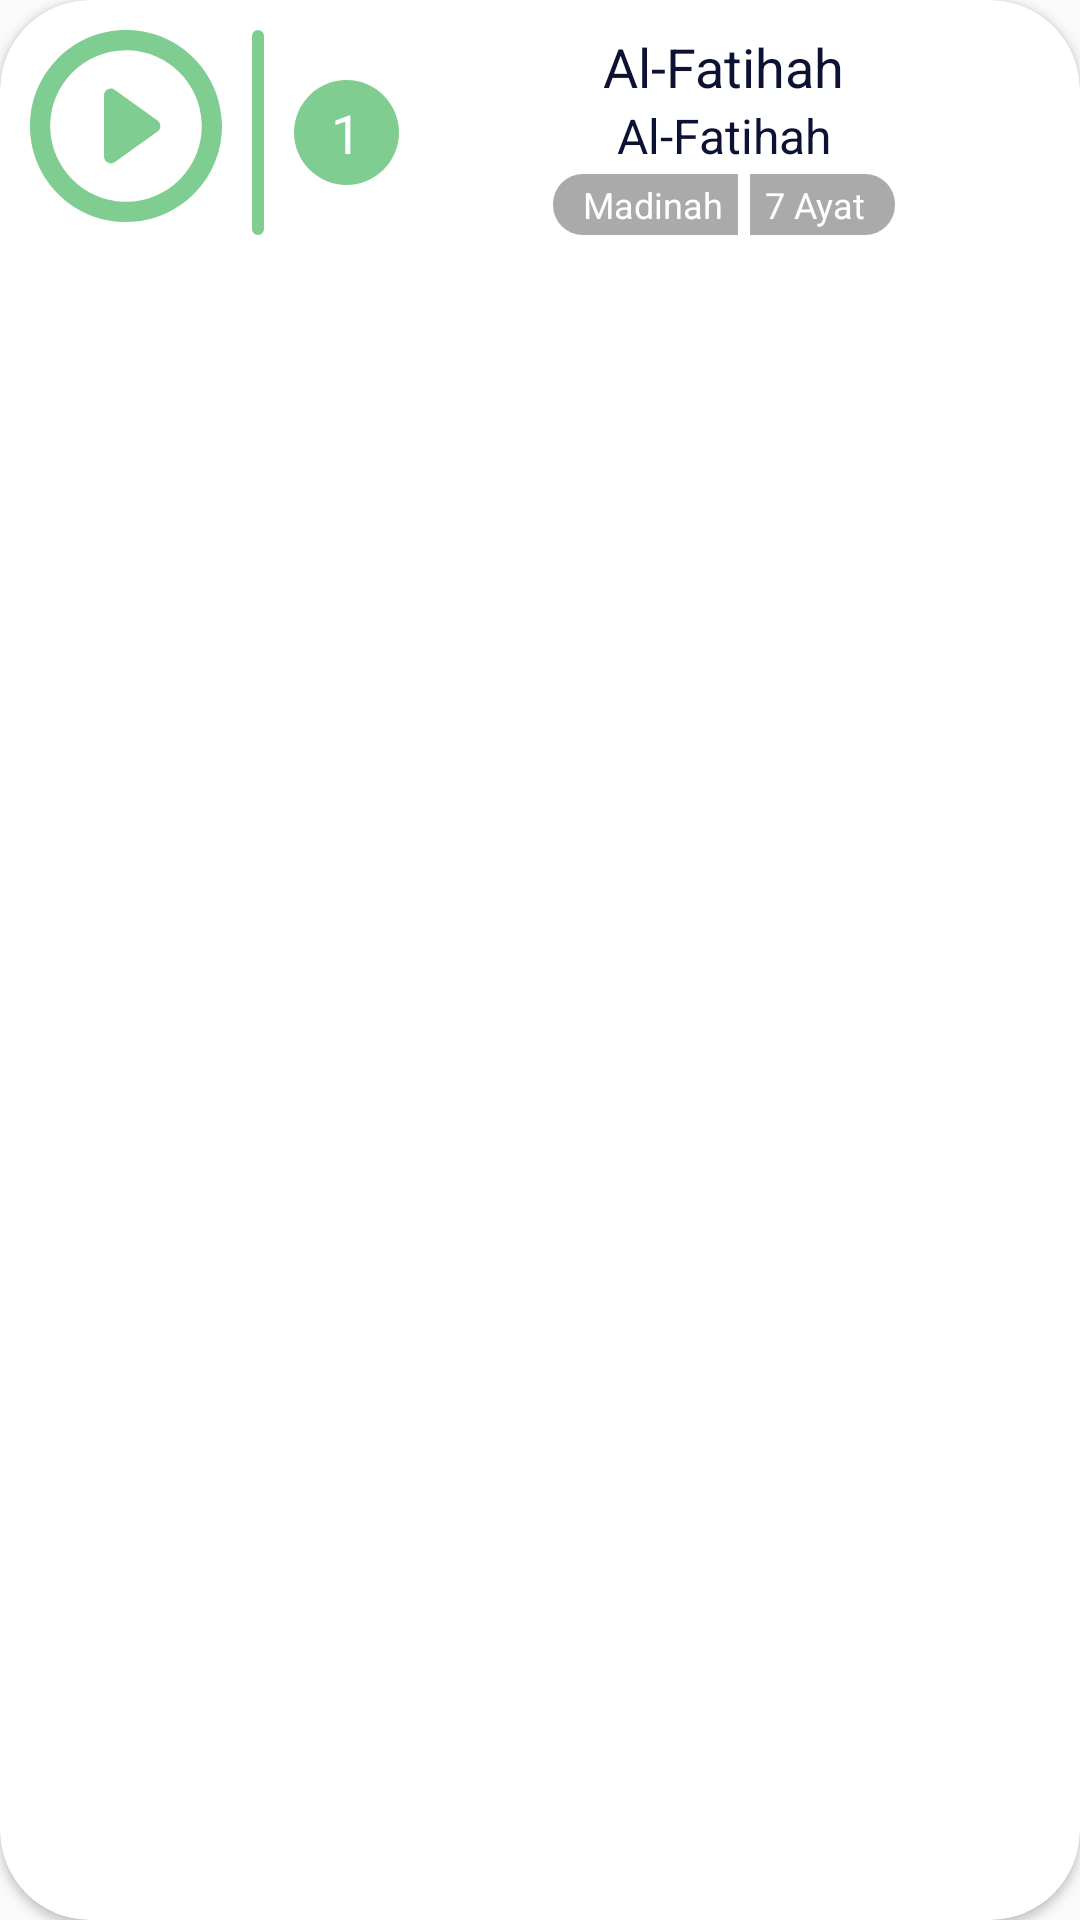

Screen size 1080*1920. Icon name, then its center in pixels as [x,y]:
play: [126,126]
